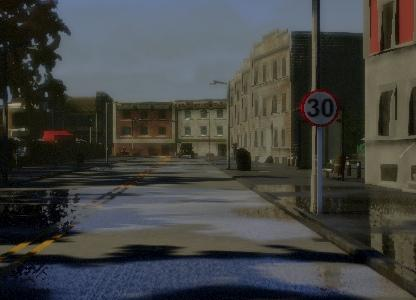Speed_30: (295, 86, 341, 129)
